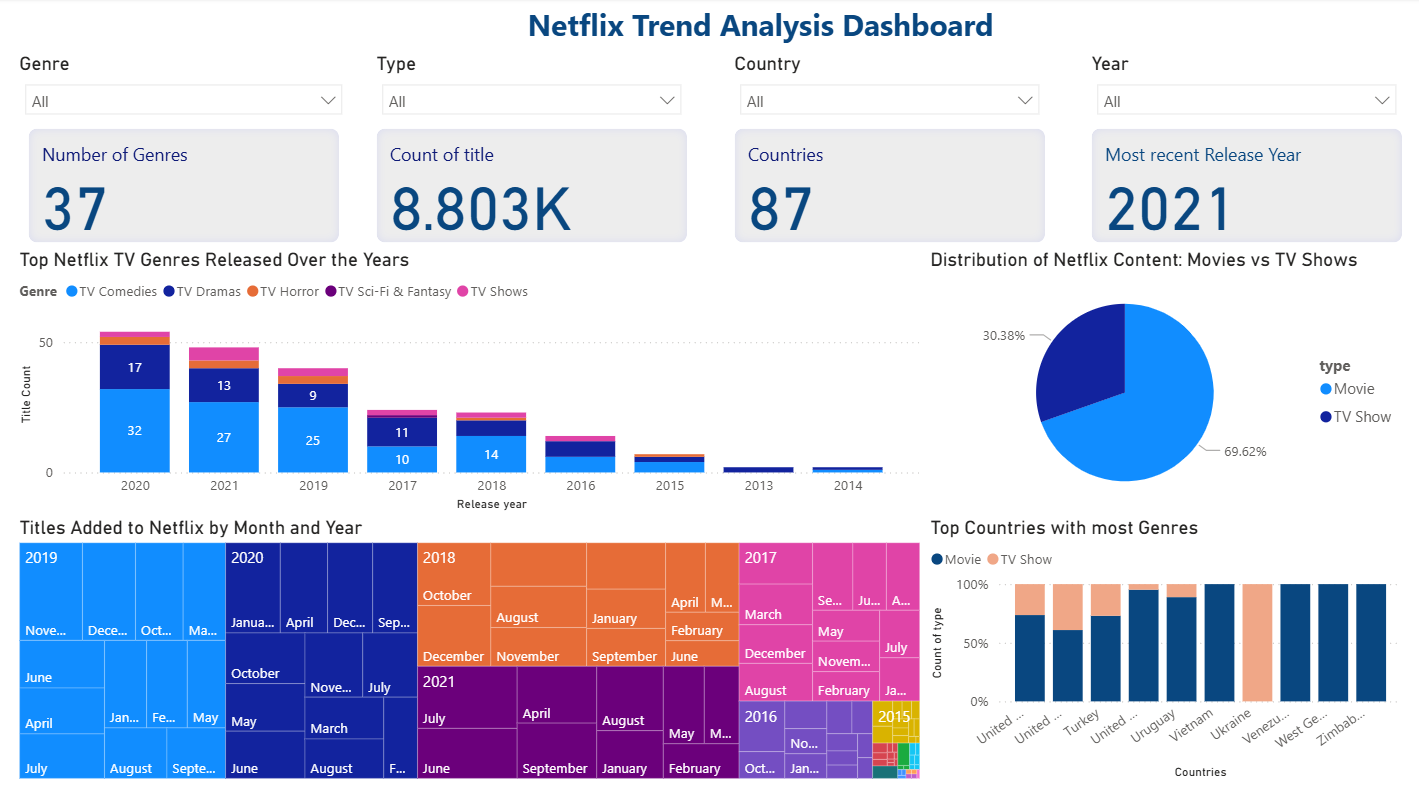

What the dashboard file says about the page in this screenshot:
{"tool":"powerbi","page":{"name":"Page 1","canvas":[1280,720],"ordinal":0},"visuals":[{"type":"columnChart","title":"Top Netflix TV Genres Released Over the Years","fields":{"Series":["netflix_titles.listed_in.1"],"Y":["CountNonNull(netflix_titles.title)"],"Category":["netflix_titles.add_year"]},"box":[16,224,816,240],"z":0},{"type":"slicer","title":"Genre","fields":{"Values":["netflix_titles.Genre"]},"box":[16,48,304,64],"z":1000},{"type":"pieChart","title":"Distribution of Netflix Content: Movies vs TV Shows","fields":{"Category":["netflix_titles.type"],"Y":["CountNonNull(netflix_titles.title)"]},"box":[832,224,432,240],"z":2000},{"type":"hundredPercentStackedColumnChart","title":"Top Countries with most Genres","fields":{"Category":["netflix_titles.country.1"],"Series":["netflix_titles.type"],"Y":["CountNonNull(netflix_titles.type)"]},"box":[832,464,432,240],"z":3000},{"type":"treemap","title":"Titles Added to Netflix by Month and Year","fields":{"Group":["netflix_titles.add_year"],"Values":["CountNonNull(netflix_titles.title)"],"Details":["netflix_titles.add_month"]},"box":[16,464,816,240],"z":4000},{"type":"textbox","box":[288,0,800,48],"z":5000},{"type":"slicer","title":"Type","fields":{"Values":["netflix_titles.type"]},"box":[336,48,288,64],"z":6000},{"type":"slicer","title":"Country","fields":{"Values":["netflix_titles.country.1"]},"box":[656,48,288,64],"z":7000},{"type":"slicer","title":"Year","fields":{"Values":["netflix_titles.add_year"]},"box":[976,48,288,64],"z":8000},{"type":"cardVisual","fields":{"Data":["Count(netflix_titles.country.1)"]},"box":[656,112,288,112],"z":9000},{"type":"cardVisual","fields":{"Data":["Max(netflix_titles.add_year)"]},"box":[976,112,288,112],"z":10000},{"type":"cardVisual","fields":{"Data":["Count(netflix_titles.title)"]},"box":[336,112,288,112],"z":11000},{"type":"cardVisual","fields":{"Data":["Count(netflix_titles.Genre)"]},"box":[24,112,288,112],"z":12000}]}

Visuals, with their boxes in screenshot pixels (x1, y1, x2, y2), scaled from the page's 1280x720 canvas onto the 1419x790 screenshot:
"Top Netflix TV Genres Released Over the Years" columnChart: left=18, top=246, right=922, bottom=509
"Genre" slicer: left=18, top=53, right=355, bottom=123
"Distribution of Netflix Content: Movies vs TV Shows" pieChart: left=922, top=246, right=1401, bottom=509
"Top Countries with most Genres" hundredPercentStackedColumnChart: left=922, top=509, right=1401, bottom=772
"Titles Added to Netflix by Month and Year" treemap: left=18, top=509, right=922, bottom=772
textbox: left=319, top=0, right=1206, bottom=53
"Type" slicer: left=372, top=53, right=692, bottom=123
"Country" slicer: left=727, top=53, right=1047, bottom=123
"Year" slicer: left=1082, top=53, right=1401, bottom=123
cardVisual - Count(netflix_titles.country.1): left=727, top=123, right=1047, bottom=246
cardVisual - Max(netflix_titles.add_year): left=1082, top=123, right=1401, bottom=246
cardVisual - Count(netflix_titles.title): left=372, top=123, right=692, bottom=246
cardVisual - Count(netflix_titles.Genre): left=27, top=123, right=346, bottom=246
